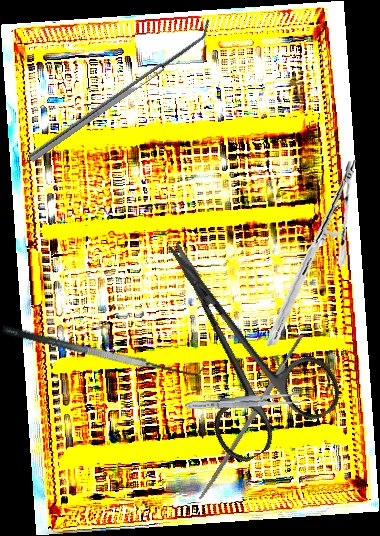Dressing Forceps: (184, 391, 300, 413)
Iris Scissors: (119, 207, 351, 470)
Needle Holder: (249, 160, 374, 346)
Scalpel Handle: (197, 332, 307, 502)
Spatula Surgical: (22, 18, 219, 163), (0, 307, 207, 389)
